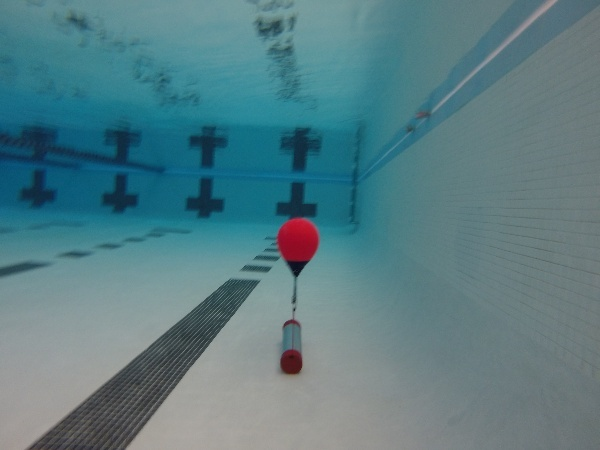buoy_red: (271, 215, 324, 279)
